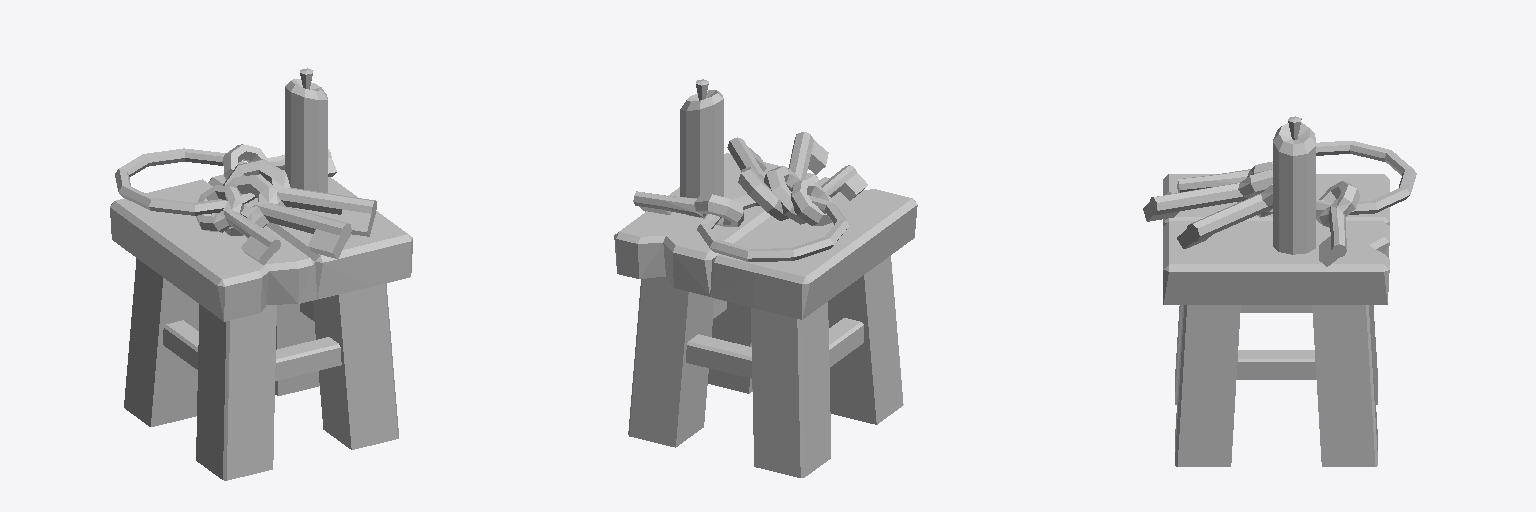
The model's file is table_small_decorated_A.obj.
3 renders of one model, left to right at view 1: azimuth 30°, elevation 25°; view 2: azimuth 150°, elevation 25°; view 3: azimuth 270°, elevation 25°, orthographic.
Parts seen in each view (by area): view 1: table_small_decorated_A_Cube.15754; view 2: table_small_decorated_A_Cube.15754; view 3: table_small_decorated_A_Cube.15754.
Boxes of the visible parts, x1,y1,x2,y2 form: table_small_decorated_A_Cube.15754: [110, 68, 412, 480]; table_small_decorated_A_Cube.15754: [614, 79, 917, 477]; table_small_decorated_A_Cube.15754: [1143, 116, 1416, 466].
Size of the model in its own units: 1.04 by 1.62 by 1.21.